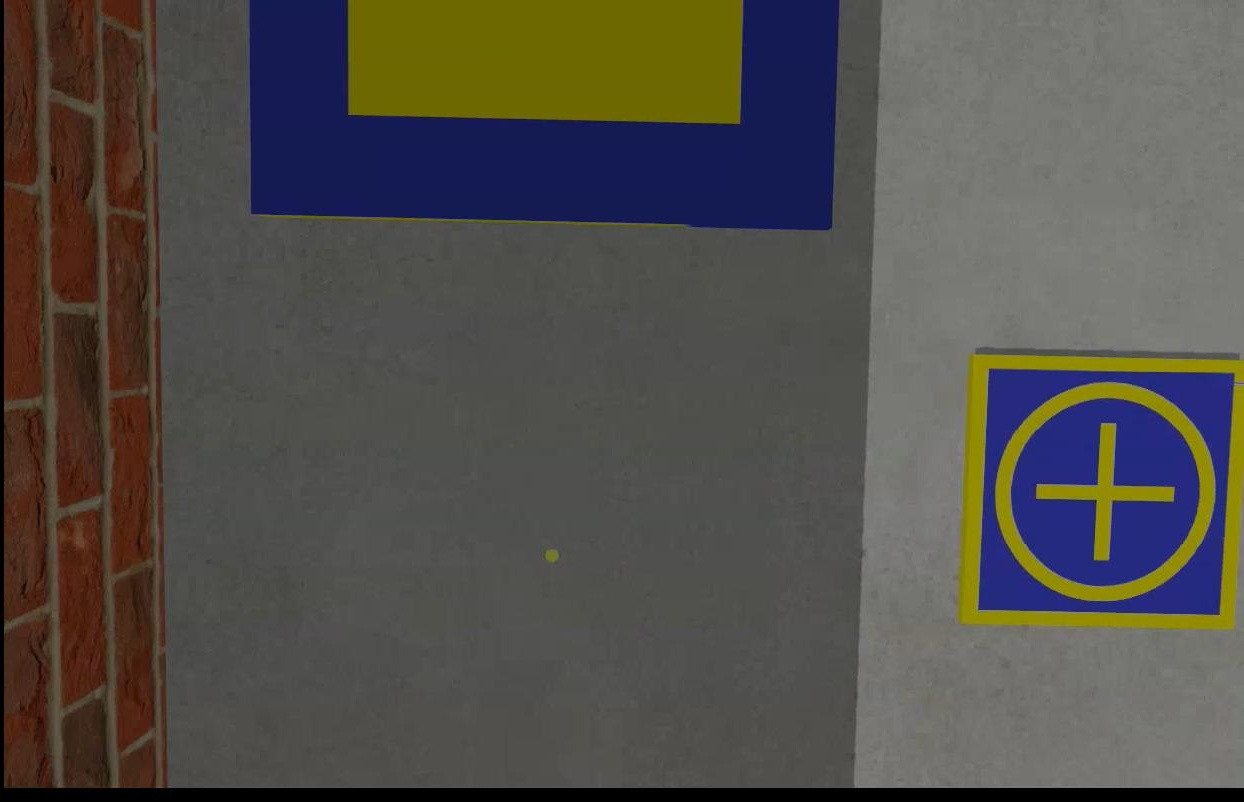large_base: (240, 1, 831, 231)
small_base: (960, 346, 1242, 632)
